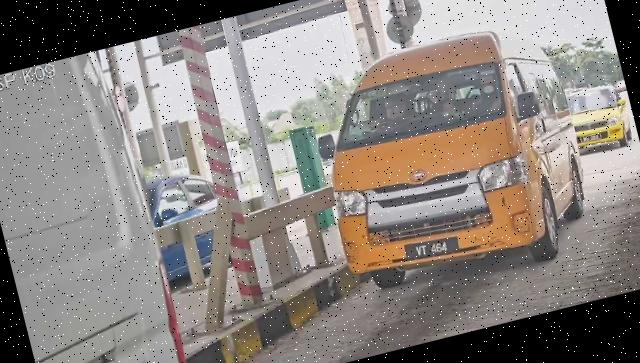License_Plate: (404, 231, 464, 269)
van: (301, 15, 605, 308)
